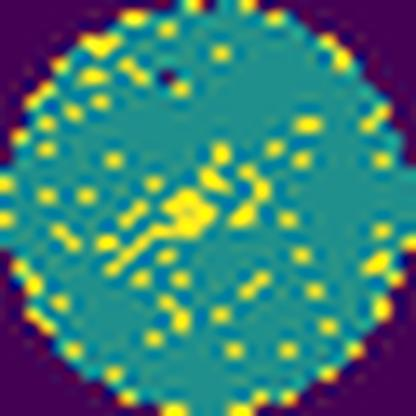Center: (108, 138, 275, 276)
